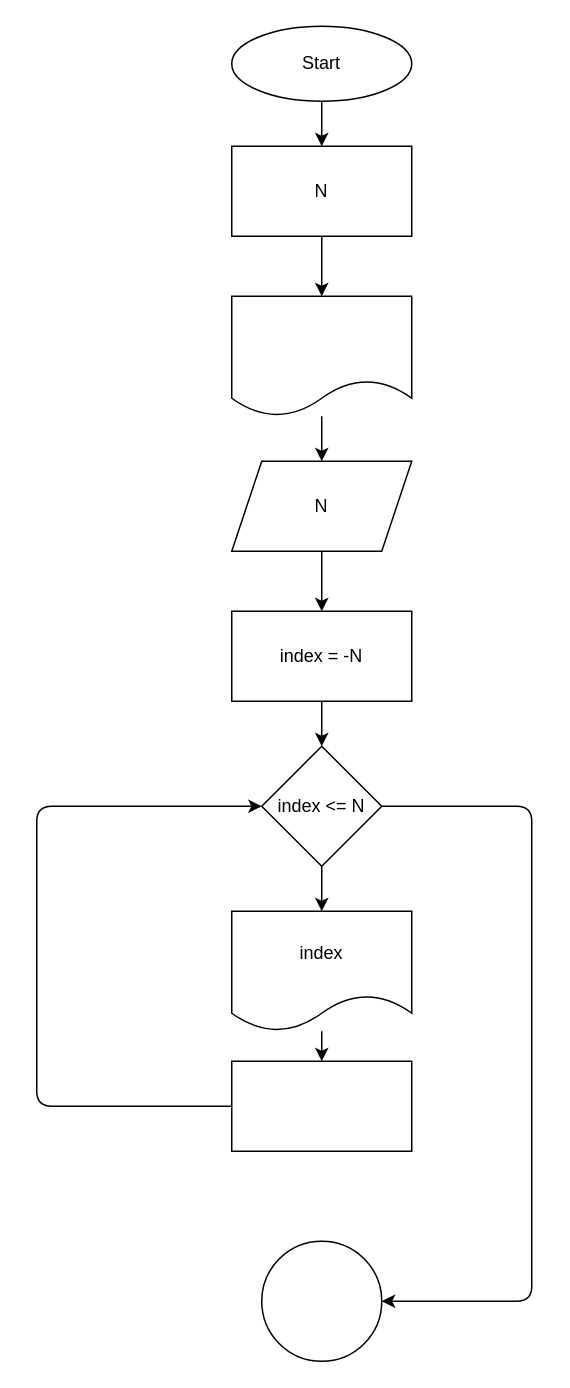
Some shapes in this 570 by 1388 pixel diagram are drawn without their labels. Each missing label, with the centre of its shape:
"Введите N ": [321,355]
END: [321,1300]
index = index + 1: [321,1105]
